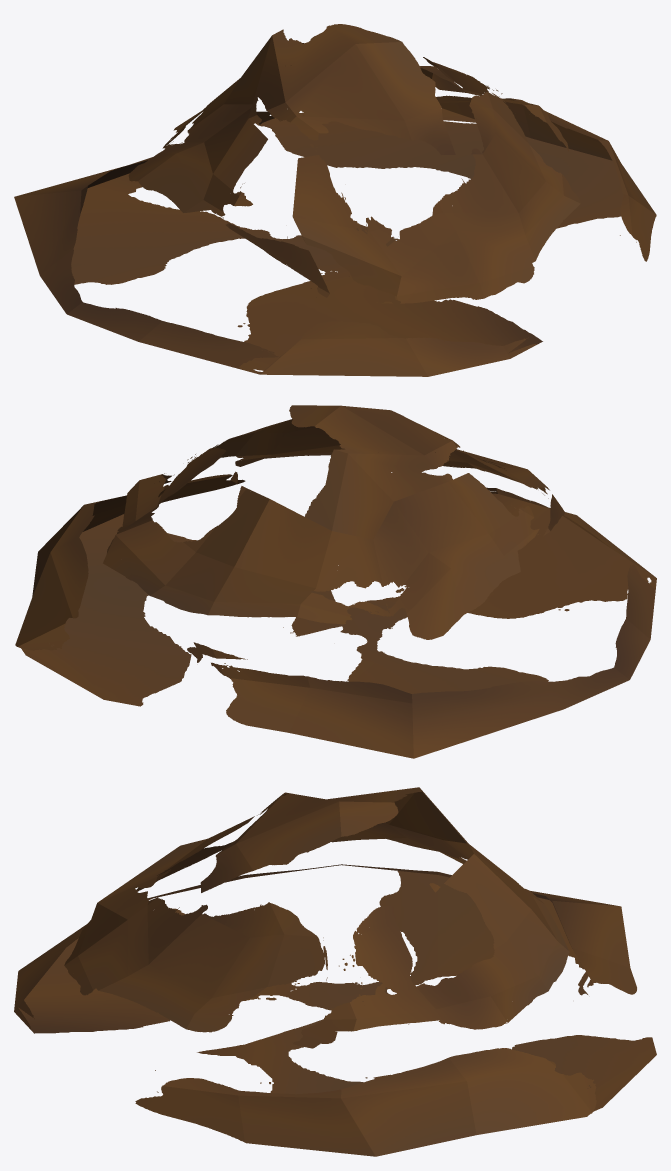
Rendered from Collin_dirtPile_02.fbx.
3 renders of one model, top to bottom at view 1: azimuth 30°, elevation 25°; view 2: azimuth 150°, elevation 25°; view 3: azimuth 270°, elevation 25°, orthographic. The views are drawn at different scales.
Parts seen in each view (by area): view 1: Pileofdirt.002; view 2: Pileofdirt.002; view 3: Pileofdirt.002.
Boxes of the visible parts, x1=… form: Pileofdirt.002: x1=14, y1=24, x2=656, y2=376; Pileofdirt.002: x1=15, y1=405, x2=656, y2=758; Pileofdirt.002: x1=14, y1=787, x2=656, y2=1156.
Bounding box in the file's own units: 27.86 × 9.39 × 25.95.
1 material, 1 textured.
